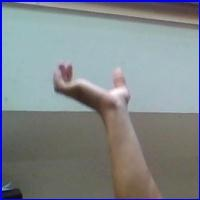B: (49, 58, 136, 110)
